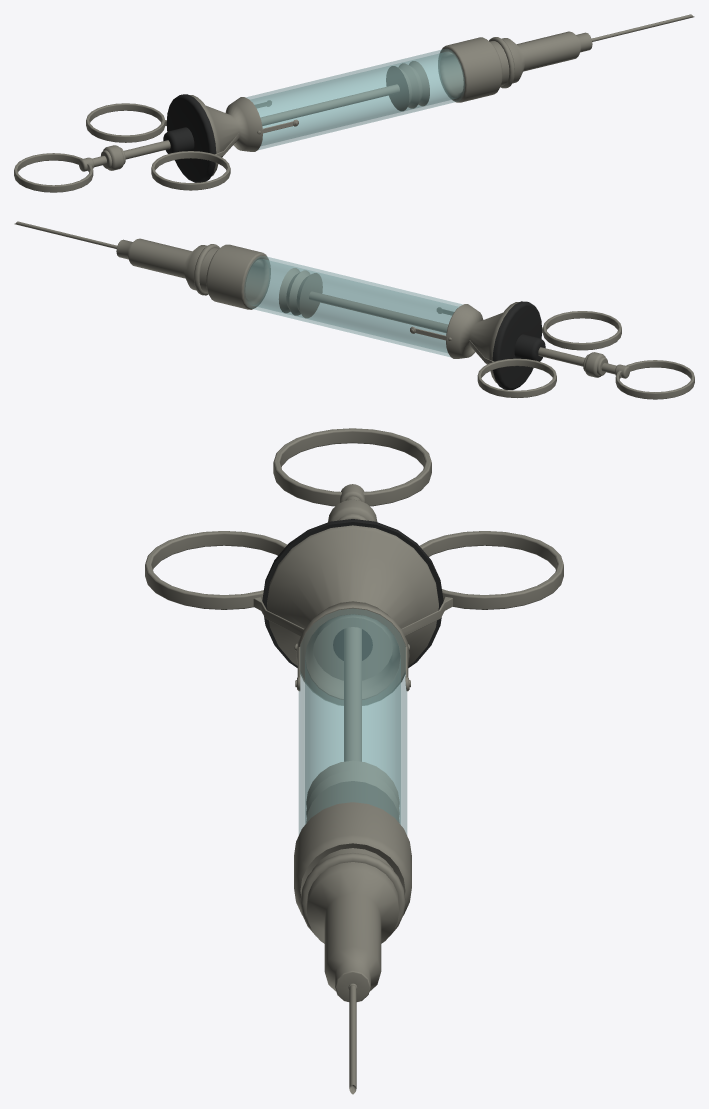
Rendered from lowpoly.fbx.
3 renders of one model, top to bottom at view 1: azimuth 30°, elevation 25°; view 2: azimuth 150°, elevation 25°; view 3: azimuth 270°, elevation 25°, orthographic. The views are drawn at different scales.
Visible parts, largest first — view 1: pCylinder1, pCylinder2, pCylinder4, pCylinder3, polySurface4, polySurface5, pCylinder9, pCylinder10, pCylinder8, pCylinder13; view 2: pCylinder1, pCylinder2, pCylinder4, pCylinder3, polySurface4, polySurface5, pCylinder10, pCylinder9, pCylinder8, pCylinder13; view 3: pCylinder1, pCylinder3, pCylinder2, pCylinder8, pCylinder10, pCylinder9, polySurface5, pCylinder4, polySurface4.
Boxes of the visible parts, bbox=[...] form: pCylinder1: bbox=[246, 49, 464, 150]; pCylinder2: bbox=[438, 14, 694, 102]; pCylinder4: bbox=[163, 94, 216, 182]; pCylinder3: bbox=[189, 95, 262, 176]; polySurface4: bbox=[92, 84, 399, 167]; polySurface5: bbox=[386, 61, 429, 111]; pCylinder9: bbox=[151, 151, 230, 190]; pCylinder10: bbox=[86, 103, 165, 142]; pCylinder8: bbox=[14, 153, 93, 192]; pCylinder13: bbox=[101, 145, 125, 170]; pCylinder1: bbox=[244, 256, 462, 357]; pCylinder2: bbox=[14, 221, 270, 309]; pCylinder4: bbox=[492, 301, 545, 389]; pCylinder3: bbox=[446, 302, 519, 383]; polySurface4: bbox=[309, 291, 616, 374]; polySurface5: bbox=[279, 268, 322, 318]; pCylinder10: bbox=[477, 358, 556, 398]; pCylinder9: bbox=[542, 311, 621, 350]; pCylinder8: bbox=[615, 360, 694, 399]; pCylinder13: bbox=[583, 352, 608, 377]; pCylinder1: bbox=[298, 609, 407, 834]; pCylinder3: bbox=[267, 525, 438, 705]; pCylinder2: bbox=[294, 802, 411, 1094]; pCylinder8: bbox=[273, 428, 431, 506]; pCylinder10: bbox=[420, 531, 563, 609]; pCylinder9: bbox=[145, 531, 286, 609]; polySurface5: bbox=[306, 760, 399, 822]; pCylinder4: bbox=[262, 519, 443, 667]; polySurface4: bbox=[344, 496, 361, 761].
Size of the model in its own units: 28.66 by 3.33 by 7.7.
